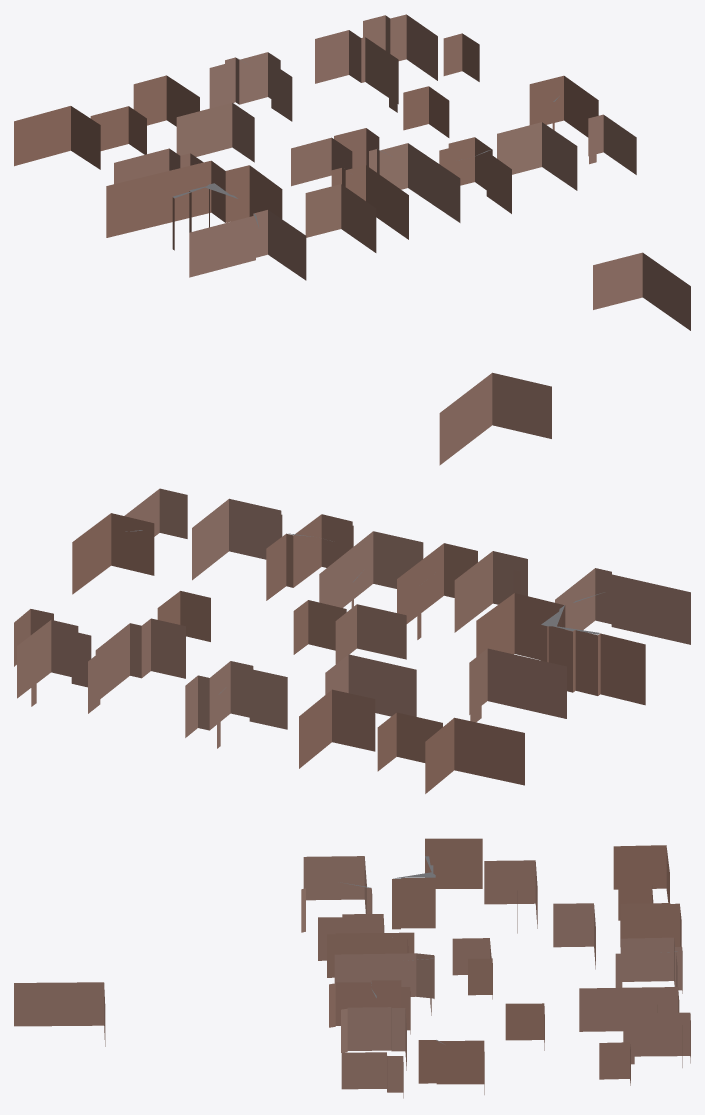
File: c_1637_17830_buildings_residential.glb
3 renders of one model, top to bottom at view 1: azimuth 30°, elevation 25°; view 2: azimuth 150°, elevation 25°; view 3: azimuth 270°, elevation 25°, orthographic. The views are drawn at different scales.
Parts seen in each view (by area): view 1: geometry_0; view 2: geometry_0; view 3: geometry_0.
Boxes of the visible parts, x1,y1,x2,y2 form: geometry_0: [14, 14, 690, 330]; geometry_0: [14, 372, 690, 793]; geometry_0: [14, 838, 690, 1098].
Bounding box in the file's own units: 102 × 11.11 × 134.
